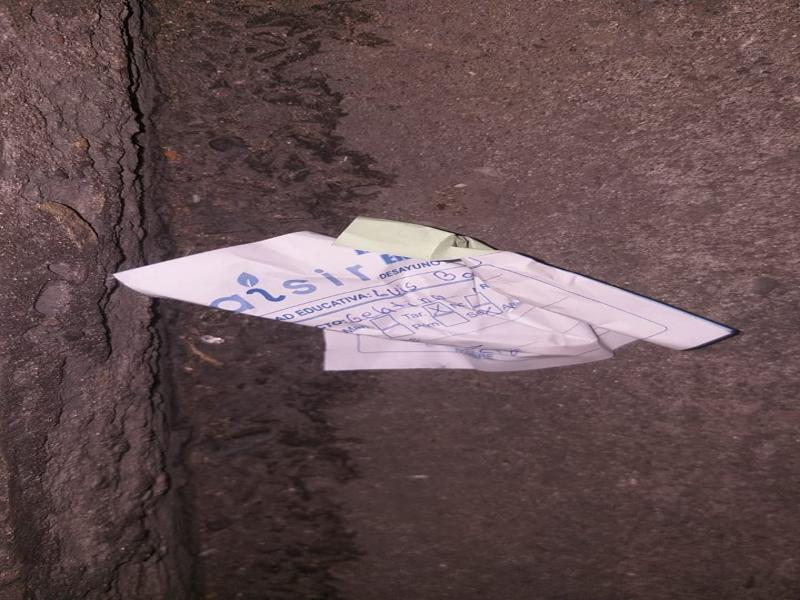papel: (111, 218, 737, 374)
